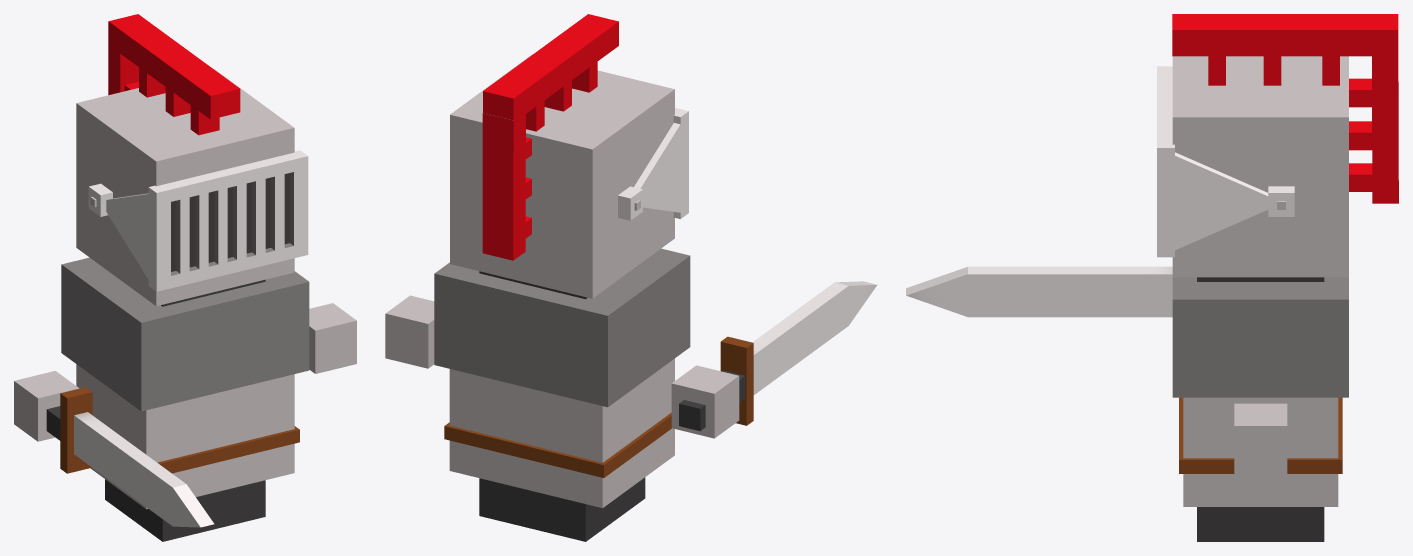
The model's file is blue_ken.obj.
3 renders of one model, left to right at view 1: azimuth 30°, elevation 25°; view 2: azimuth 150°, elevation 25°; view 3: azimuth 270°, elevation 25°, orthographic. The views are drawn at different scales.
Parts seen in each view (by area): view 1: 立方体.002_立方体.010; view 2: 立方体.002_立方体.010; view 3: 立方体.002_立方体.010.
Part boxes in pixels (left/top/right/bottom): 立方体.002_立方体.010: left=14, top=14, right=356, bottom=541; 立方体.002_立方体.010: left=385, top=14, right=877, bottom=541; 立方体.002_立方体.010: left=906, top=14, right=1398, bottom=541.
Size of the model in its own units: 4.61 by 6.15 by 5.58.
